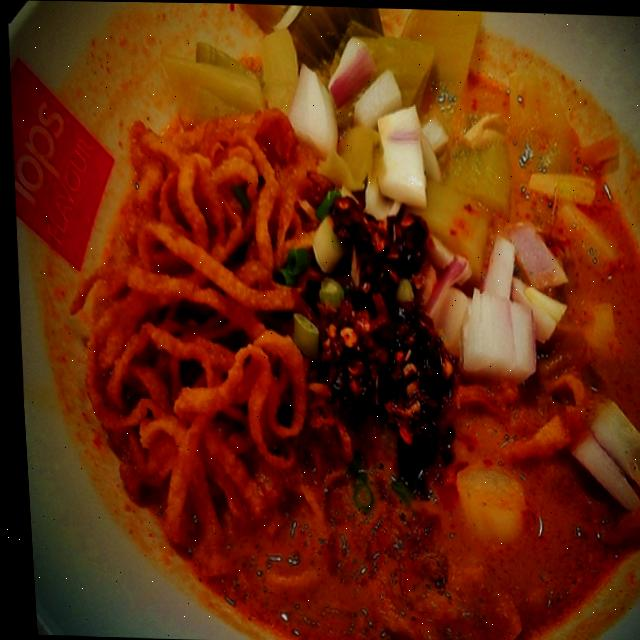面条主食: (32, 0, 640, 640)
